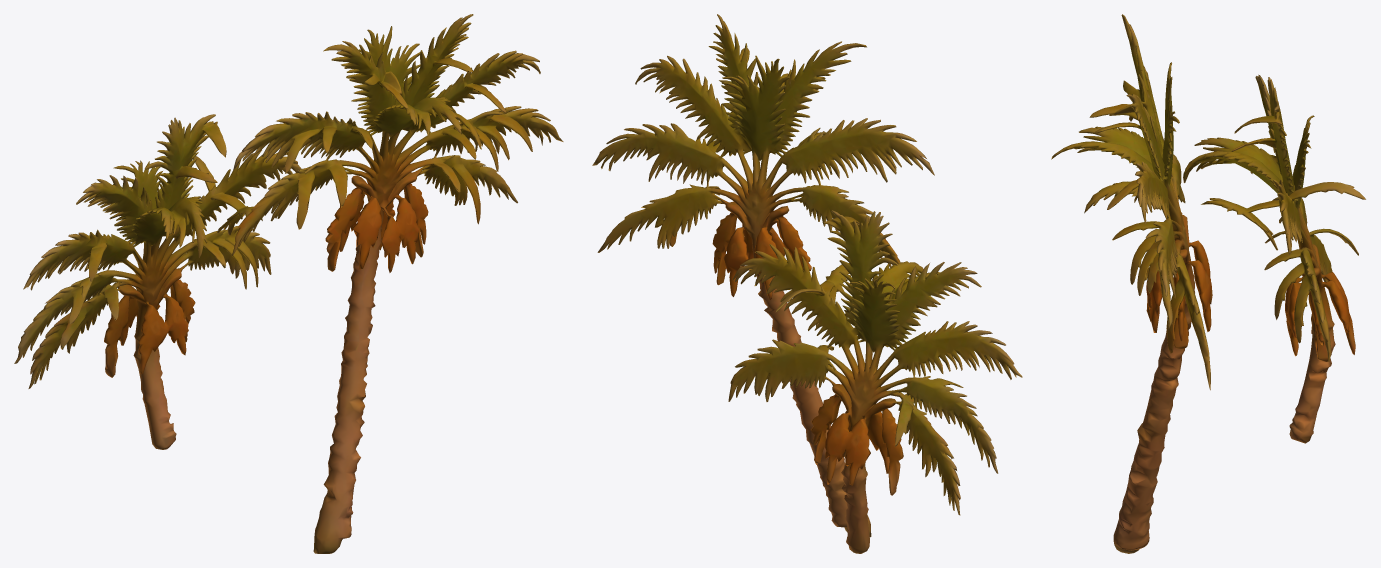
File: palm.glb
3 renders of one model, left to right at view 1: azimuth 30°, elevation 25°; view 2: azimuth 150°, elevation 25°; view 3: azimuth 270°, elevation 25°, orthographic. The views are drawn at different scales.
Visible parts, largest first — view 1: tripo_node_33721d3b-6af6-44b9-af00-b1cd23e764ff; view 2: tripo_node_33721d3b-6af6-44b9-af00-b1cd23e764ff; view 3: tripo_node_33721d3b-6af6-44b9-af00-b1cd23e764ff.
Part boxes in pixels (x1,y1,x2,y2): tripo_node_33721d3b-6af6-44b9-af00-b1cd23e764ff: [14, 14, 563, 553]; tripo_node_33721d3b-6af6-44b9-af00-b1cd23e764ff: [592, 14, 1022, 553]; tripo_node_33721d3b-6af6-44b9-af00-b1cd23e764ff: [1051, 14, 1365, 553].
Size of the model in its own units: 7.14 by 7 by 3.73.
Materials: 1 (1 with a texture image).
